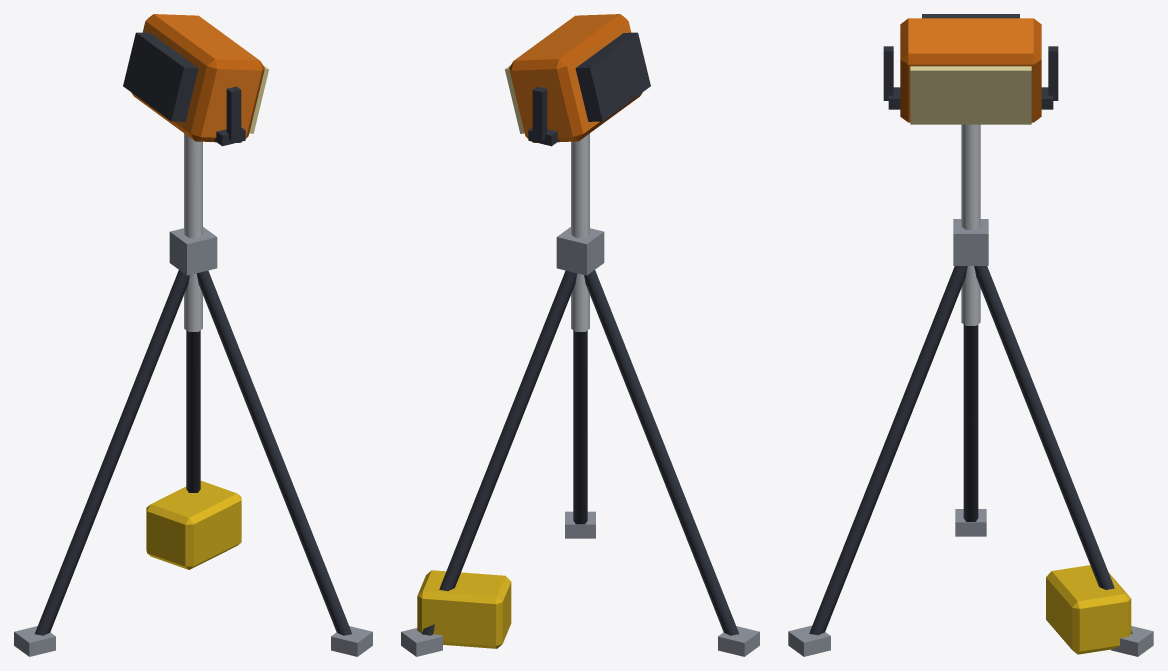
Rendered from lamp.glb.
3 views of the same model, side by side, from view 1: azimuth 30°, elevation 25°; view 2: azimuth 150°, elevation 25°; view 3: azimuth 270°, elevation 25° (orthographic).
Visible parts, largest first — view 1: Body; view 2: Body; view 3: Body, Lamp_glow.
Part boxes in pixels (box(x1,y1,x2,y2)): Body: box(14, 14, 372, 656); Body: box(401, 14, 759, 656); Body: box(788, 14, 1153, 656); Lamp_glow: box(910, 66, 1031, 124).
Bounding box in the file's own units: 1.64 × 3.32 × 1.86.
